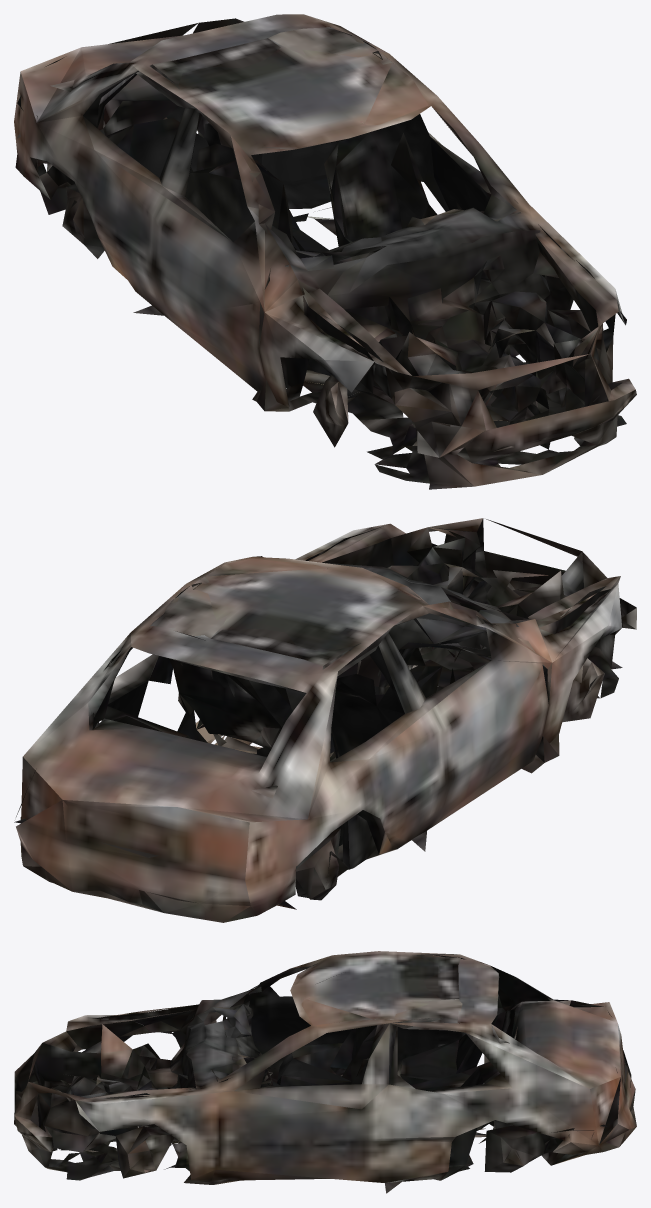
Rendered from mp_burnt_car.glb.
3 renders of one model, top to bottom at view 1: azimuth 30°, elevation 25°; view 2: azimuth 150°, elevation 25°; view 3: azimuth 270°, elevation 25°, orthographic. The views are drawn at different scales.
Visible parts, largest first — view 1: turn; view 2: turn; view 3: turn.
Boxes of the visible parts, <box> form: turn: <box>14,14,636,489</box>; turn: <box>14,518,636,922</box>; turn: <box>14,951,636,1193</box>.
Size of the model in its own units: 1.97 by 1.3 by 4.66.
Materials: 1 (1 with a texture image).
